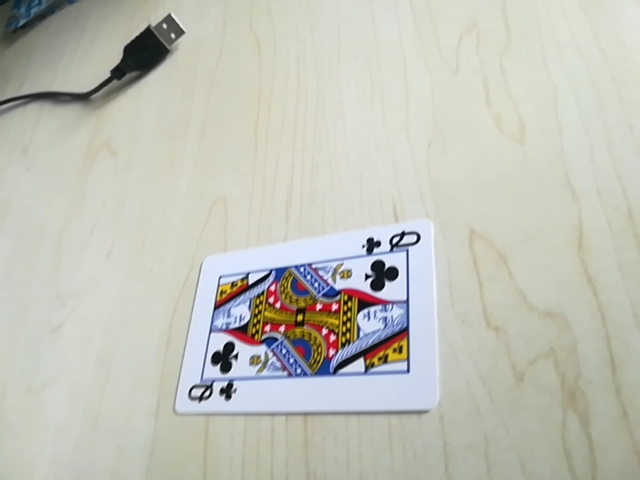mh q: (362, 226, 424, 260), (180, 375, 238, 410)
